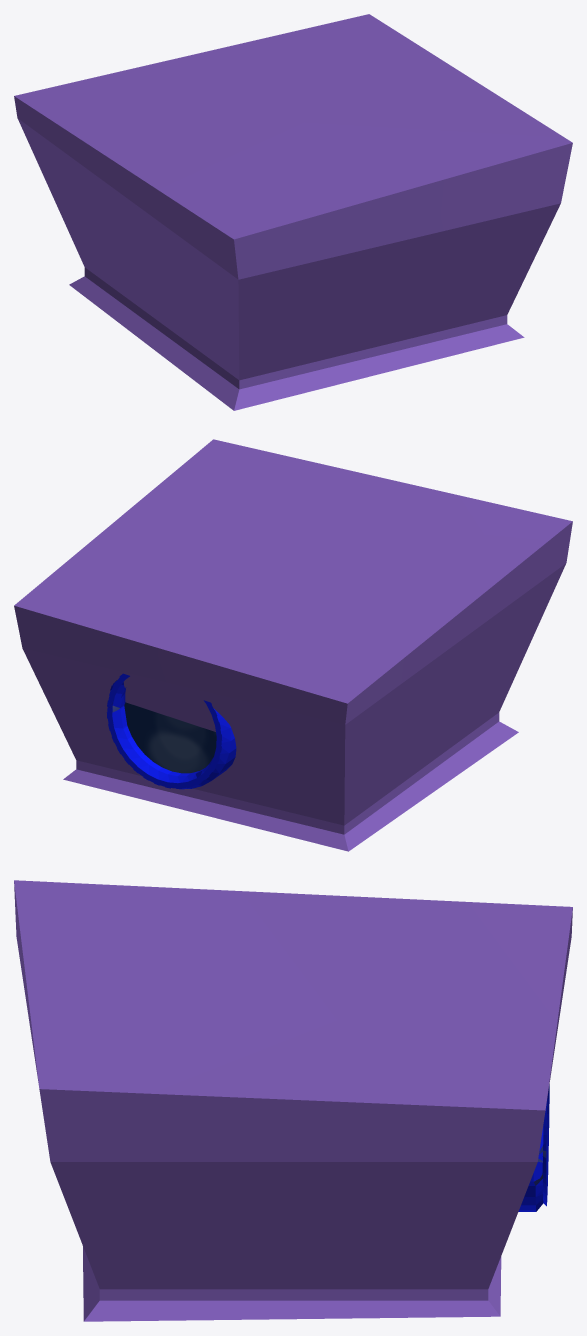
The model's file is rocketColoredP6glb.glb.
The picture shows the model from 3 angles, top to bottom: view 1: azimuth 30°, elevation 25°; view 2: azimuth 150°, elevation 25°; view 3: azimuth 270°, elevation 25°; orthographic projection. The views are drawn at different scales.
Parts seen in each view (by area): view 1: Cylinder; view 2: Cylinder; view 3: Cylinder.
Boxes of the visible parts, x1,y1,x2,y2 form: Cylinder: (14,14,572,410); Cylinder: (14,439,572,851); Cylinder: (14,880,572,1321).
Bounding box in the file's own units: 3.44 × 1.9 × 3.79.
Materials: 2 (2 with a texture image).
